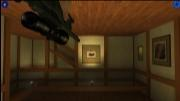gun: (22, 0, 80, 45)
